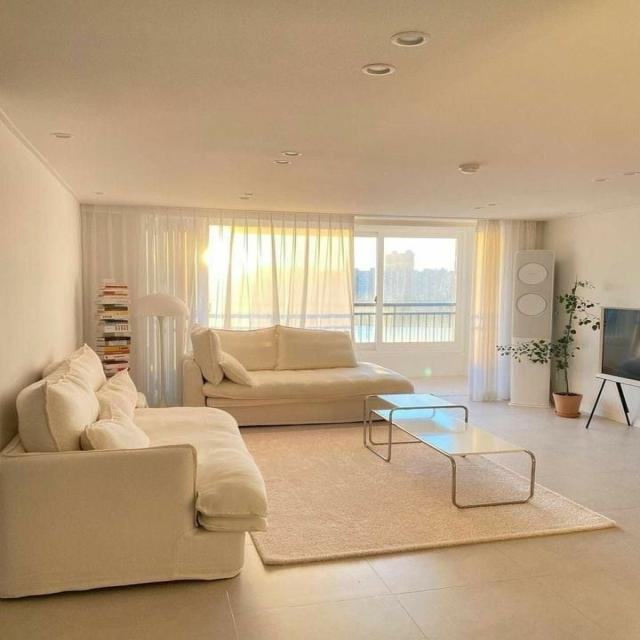obstacle: (0, 348, 268, 599), (180, 323, 414, 428), (362, 392, 536, 508), (92, 281, 130, 379)
